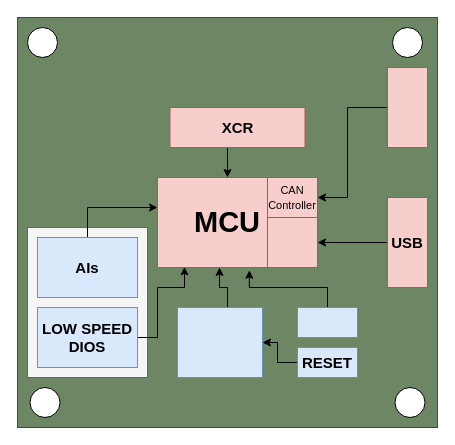
Image size: 455x445. Some labels were removed from this diagram. The shapes that lost their labels are listed below. From the top down, each one's box as (x1, y1, x2, y2) in pixels, then its label:
(386, 66, 428, 148): CAN Bus
(266, 216, 318, 268): USB Controller
(176, 306, 262, 378): POWER
(296, 306, 358, 338): JTAG
